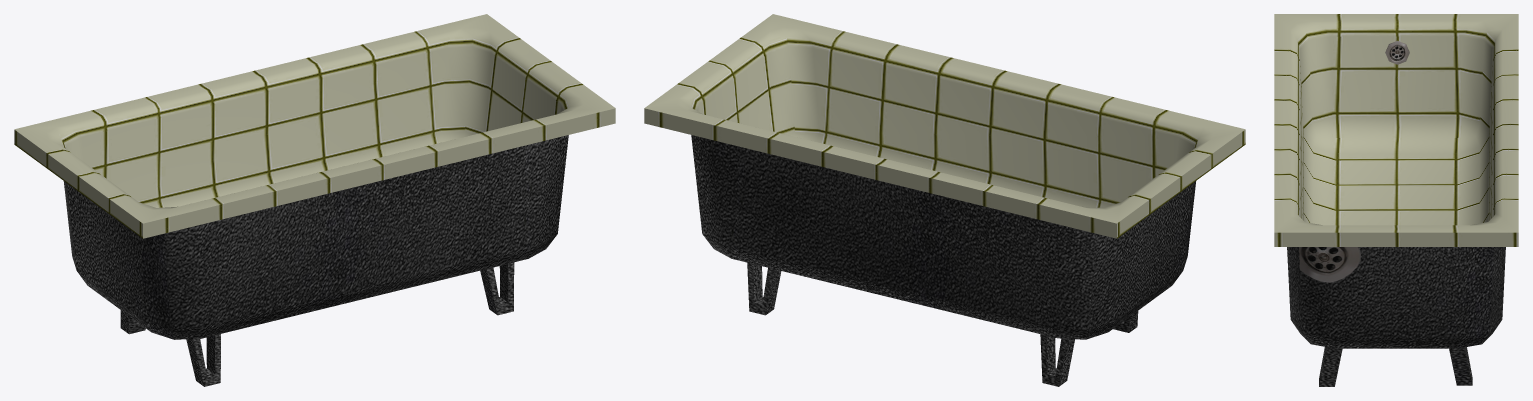
File: Bath.fbx
3 views of the same model, side by side, from view 1: azimuth 30°, elevation 25°; view 2: azimuth 150°, elevation 25°; view 3: azimuth 270°, elevation 25° (orthographic). The views are drawn at different scales.
Parts seen in each view (by area): view 1: Cube.022; view 2: Cube.022; view 3: Cube.022.
Part boxes in pixels (box(x1,y1,x2,y2)): Cube.022: box(14, 14, 615, 386); Cube.022: box(644, 14, 1245, 386); Cube.022: box(1274, 14, 1518, 386).
Size of the model in its own units: 216 by 88.03 by 102.
1 material, 1 textured.
